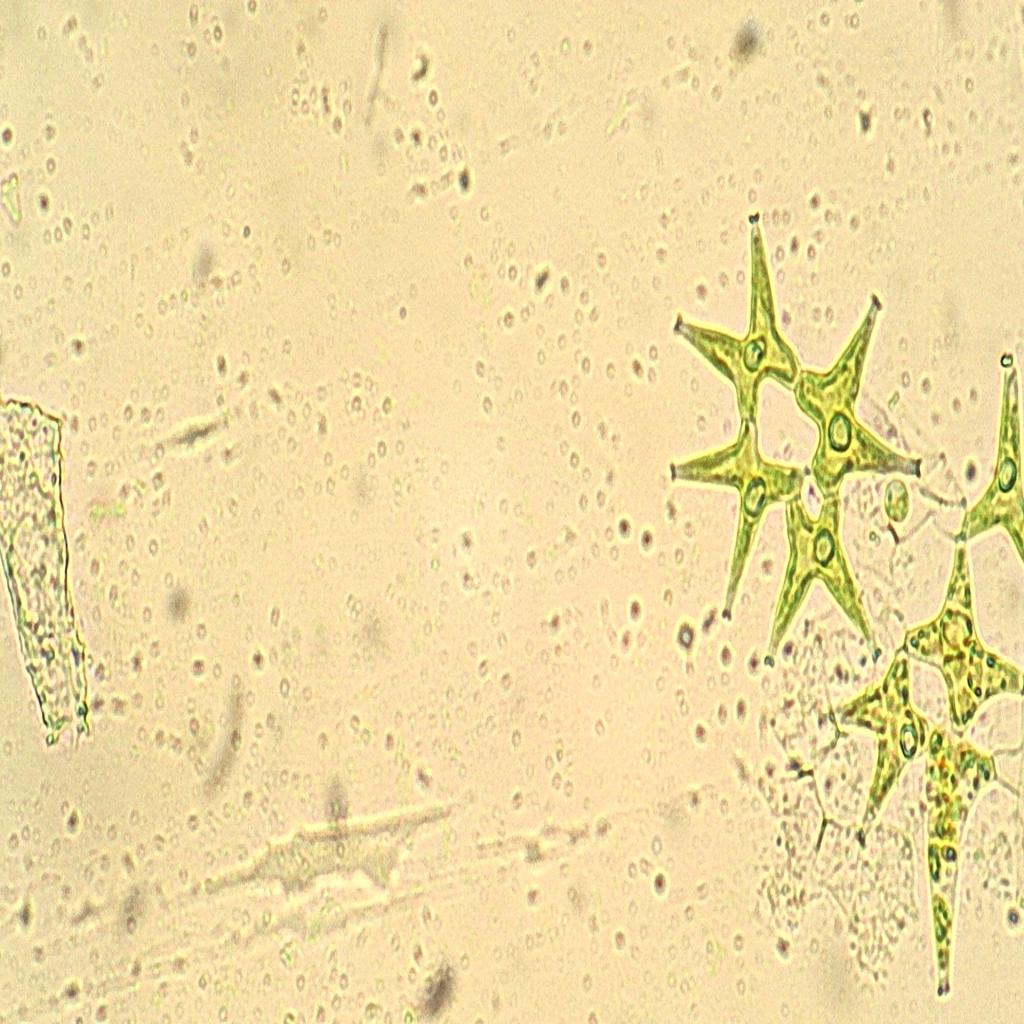Pediastrum_CF: (647, 197, 931, 705)
